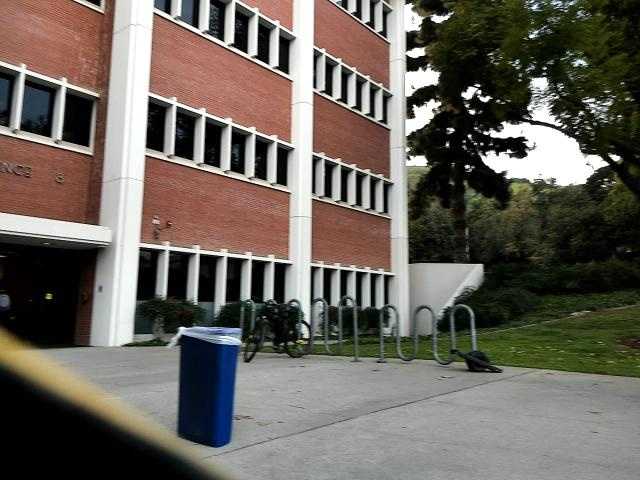trashcan_open: (176, 321, 240, 456)
